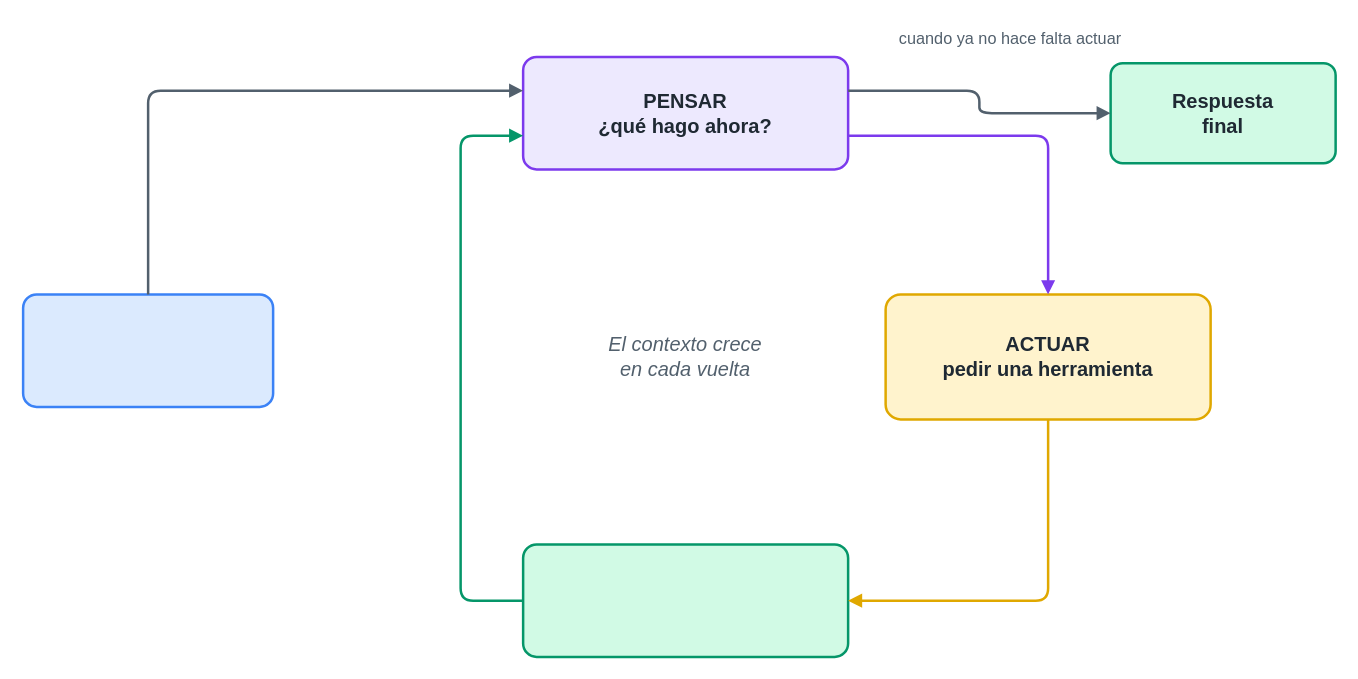
This 1358x679 diagram has some shape labels left out. The centre of each missing label's shape, as x and y in pixels:
Objetivo: (x=147, y=350)
OBSERVAR leer el resultado: (x=685, y=600)
